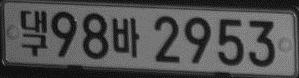2: (154, 15, 180, 62)
3: (248, 20, 275, 66)
5: (217, 19, 244, 65)
8: (82, 12, 109, 59)
9: (50, 10, 77, 57), (184, 16, 211, 63)
대구_V: (20, 10, 49, 57)
바: (112, 16, 139, 58)
